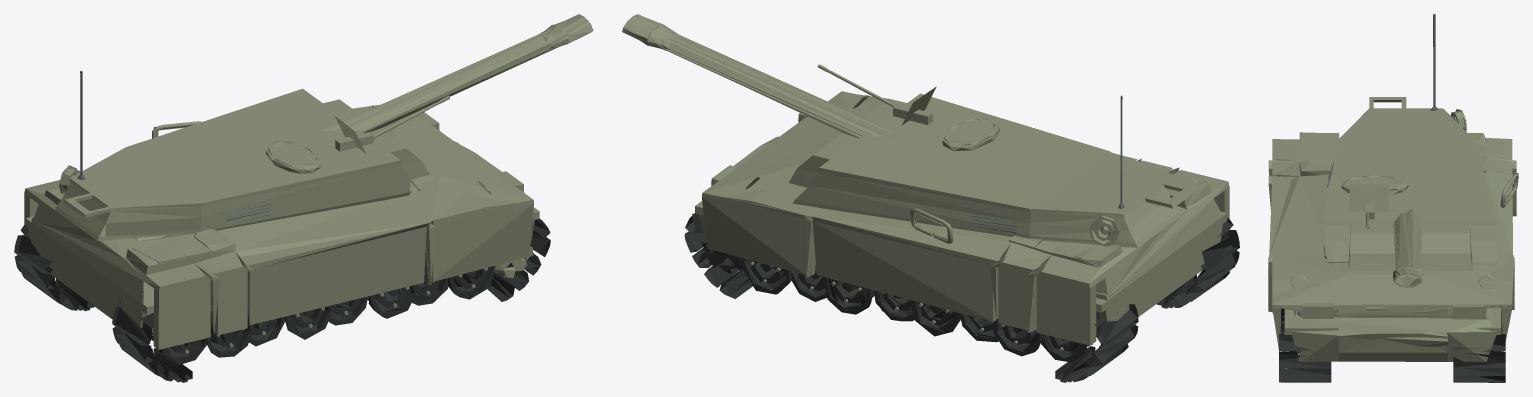
File: abrams.glb
The picture shows the model from 3 angles, left to right: view 1: azimuth 30°, elevation 25°; view 2: azimuth 150°, elevation 25°; view 3: azimuth 270°, elevation 25°; orthographic projection. The views are drawn at different scales.
Visible parts, largest first — view 1: body_far, weapon_near, body_near, barrel_near, barrel_far; view 2: body_near, weapon_near, body_far, barrel_near, barrel_far; view 3: body_far, weapon_near, body_near, barrel_near, barrel_far.
Boxes of the visible parts, x1=… form: body_far: x1=16, y1=104, x2=550, y2=381; weapon_near: x1=55, y1=71, x2=449, y2=240; body_near: x1=14, y1=105, x2=550, y2=382; barrel_near: x1=335, y1=14, x2=593, y2=132; barrel_far: x1=323, y1=20, x2=588, y2=132; body_near: x1=684, y1=94, x2=1239, y2=382; weapon_near: x1=788, y1=64, x2=1194, y2=247; body_far: x1=685, y1=91, x2=1236, y2=380; barrel_near: x1=622, y1=14, x2=892, y2=136; barrel_far: x1=623, y1=14, x2=896, y2=138; body_far: x1=1268, y1=134, x2=1518, y2=382; weapon_near: x1=1323, y1=14, x2=1499, y2=271; body_near: x1=1268, y1=132, x2=1518, y2=382; barrel_near: x1=1392, y1=212, x2=1423, y2=287; barrel_far: x1=1393, y1=208, x2=1422, y2=288.
Size of the model in its own units: 8.19 by 3.75 by 3.81.
